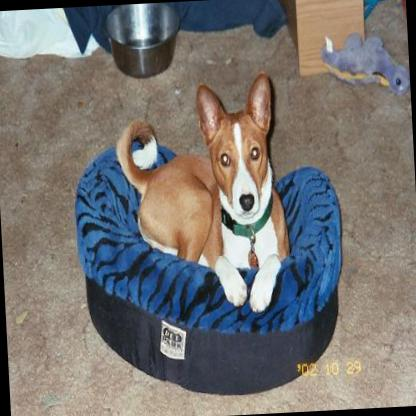basenji: (110, 66, 292, 320)
